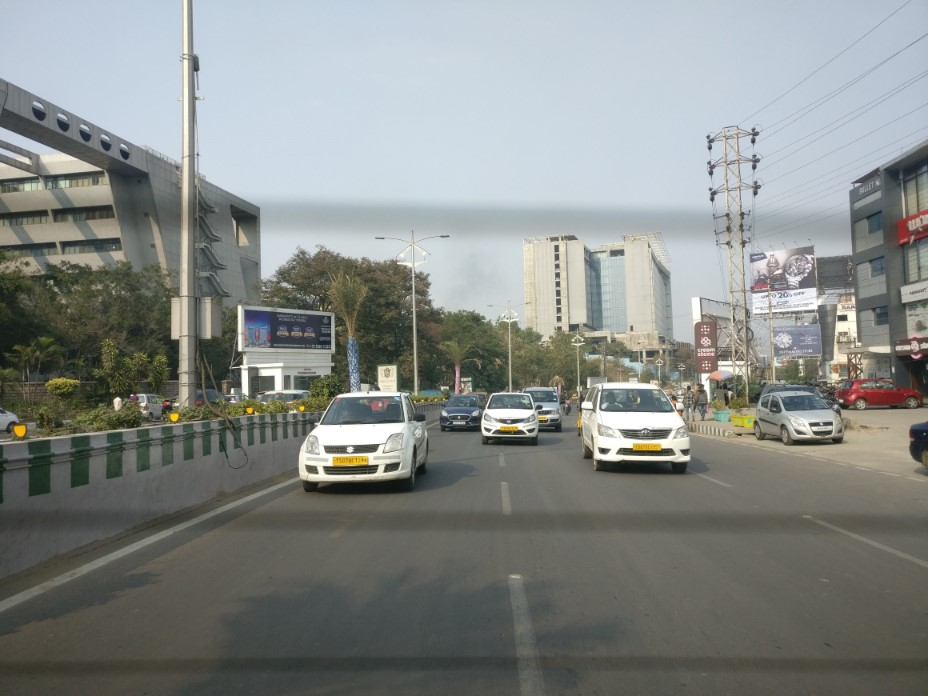swift desire: (298, 391, 431, 492)
